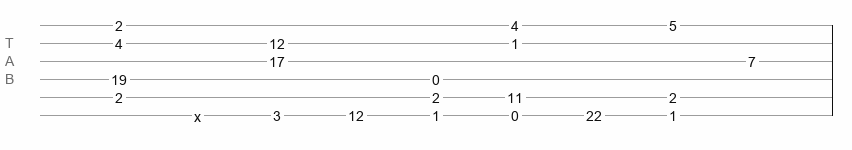0: (432, 72, 440, 82), (511, 108, 519, 118)
1: (432, 108, 440, 118), (511, 36, 519, 46), (669, 108, 677, 118)
11: (507, 90, 523, 100)
12: (269, 36, 285, 46), (348, 108, 364, 118)
17: (269, 54, 285, 64)
19: (111, 72, 127, 82)
2: (115, 18, 123, 28), (115, 90, 123, 100), (432, 90, 440, 100), (669, 90, 677, 100)
22: (586, 108, 602, 118)
3: (273, 108, 281, 118)
4: (115, 36, 123, 46), (511, 18, 519, 28)
5: (669, 18, 677, 28)
7: (748, 54, 756, 64)
x: (194, 109, 201, 117)
